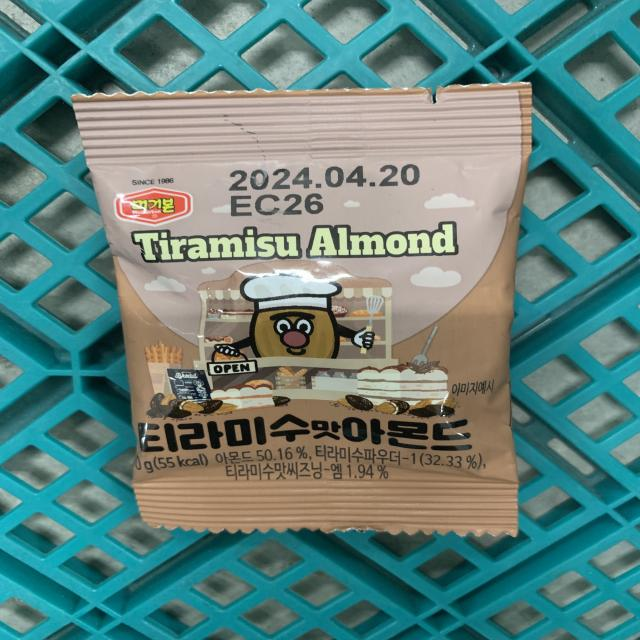object_name: (67, 86, 524, 536)
